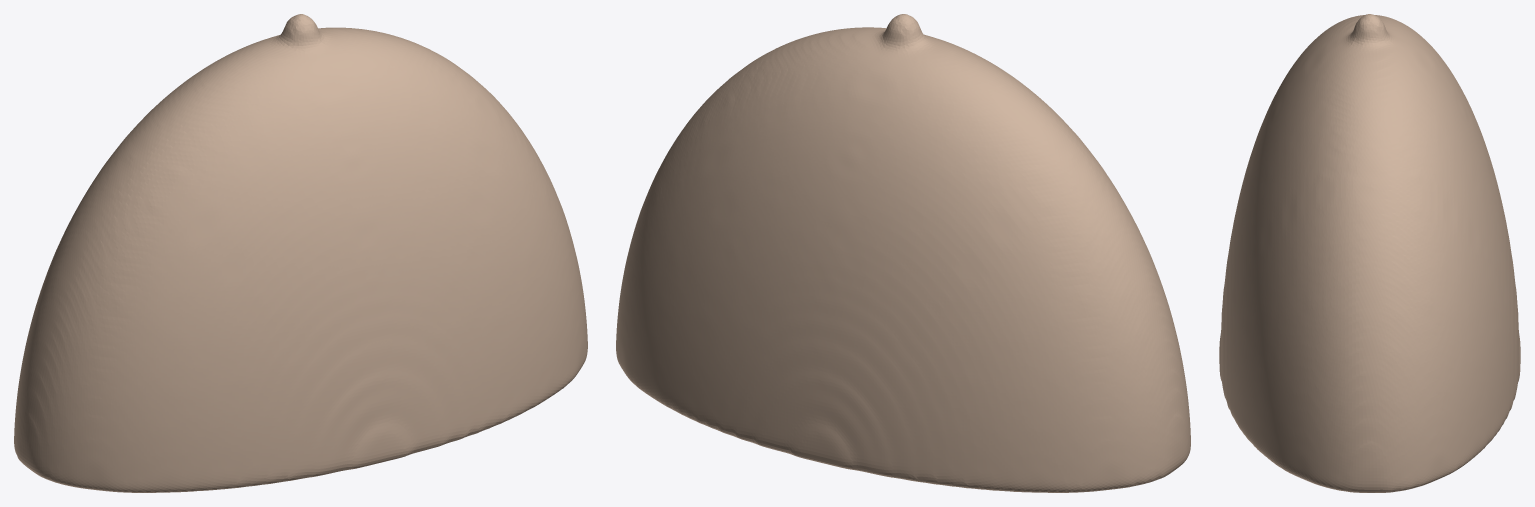
Rendered from breast.glb.
The picture shows the model from 3 angles, left to right: view 1: azimuth 30°, elevation 25°; view 2: azimuth 150°, elevation 25°; view 3: azimuth 270°, elevation 25°; orthographic projection. The views are drawn at different scales.
Visible parts, largest first — view 1: skin; view 2: skin; view 3: skin.
Part boxes in pixels (box(x1,y1,x2,y2)): skin: box(14, 14, 587, 492); skin: box(616, 14, 1190, 492); skin: box(1219, 14, 1520, 492).
Size of the model in its own units: 127 by 86.97 by 66.06.
